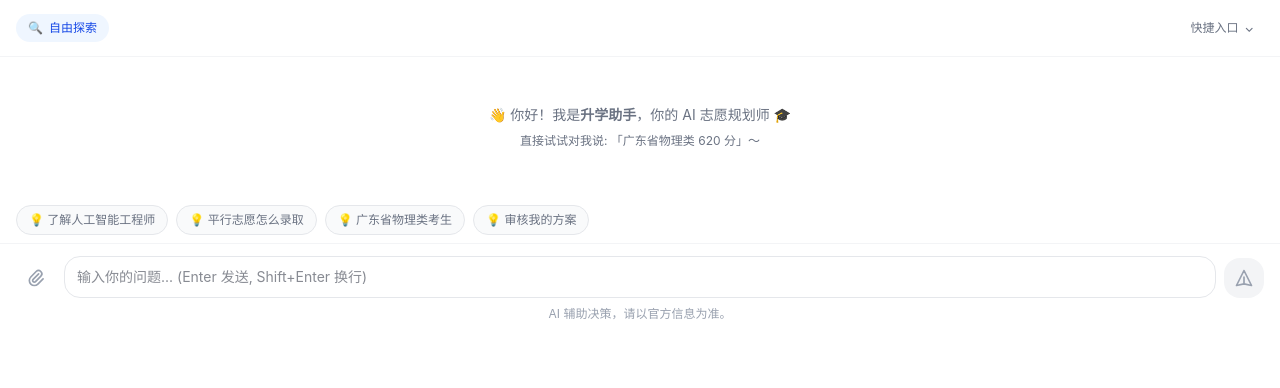
it: HomePage chat send › renders desktop quick entry dropdown
Click the button "快捷入口 ⌄": (1222, 28) [1180, 10, 1264, 46]
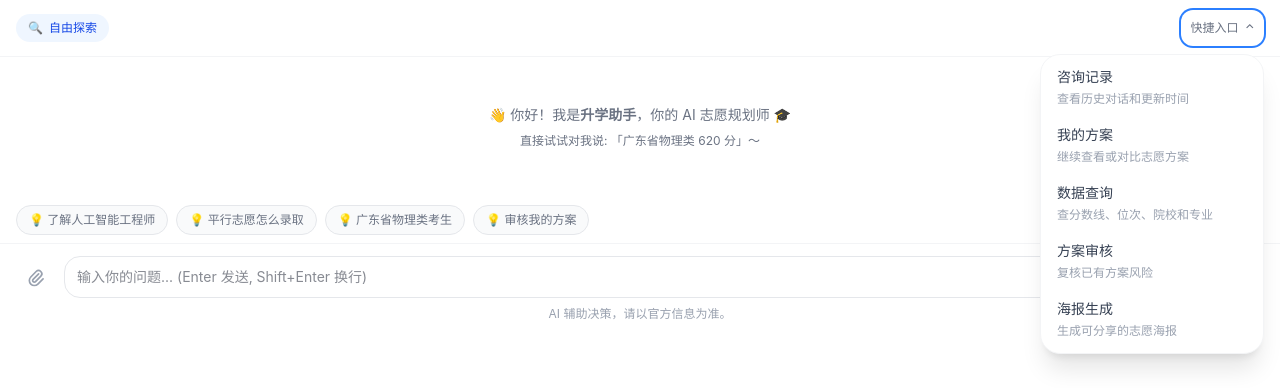
Check: the menu named "快捷入口" is shown, box [1040, 54, 1264, 354]
